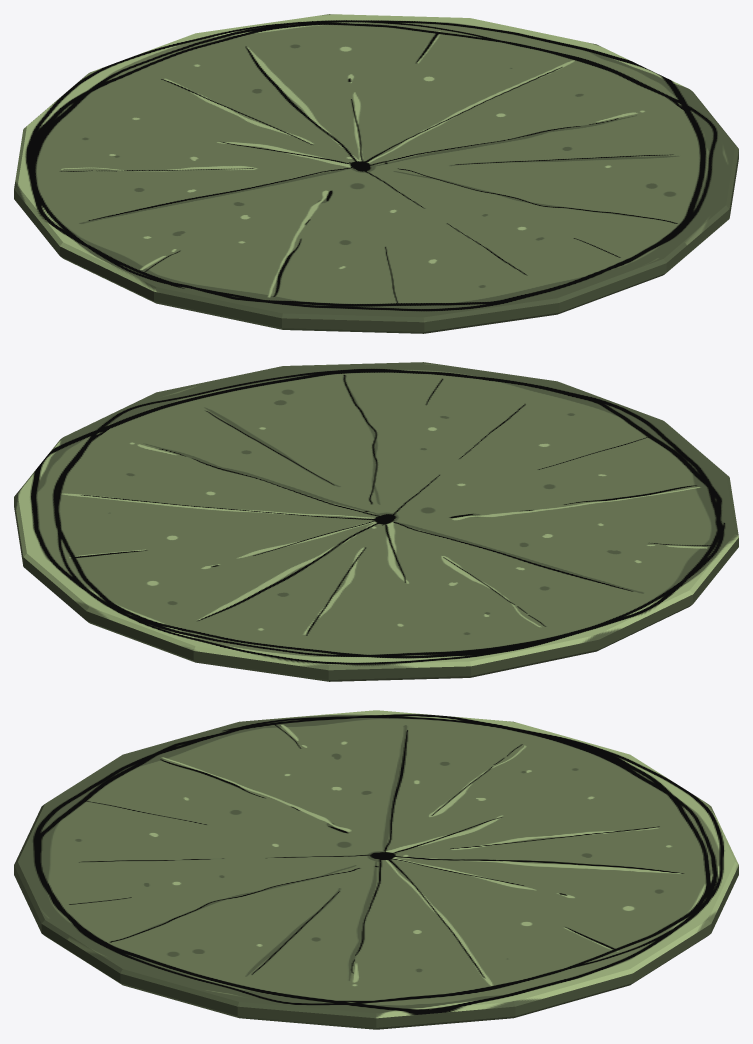
The model's file is GreenLilyPads-mockup.fbx.
3 views of the same model, one above another, from view 1: azimuth 30°, elevation 25°; view 2: azimuth 150°, elevation 25°; view 3: azimuth 270°, elevation 25° (orthographic).
Visible parts, largest first — view 1: Cylinder; view 2: Cylinder; view 3: Cylinder.
Boxes of the visible parts, left/top/right/bottom form: Cylinder: left=14, top=14, right=738, bottom=333; Cylinder: left=14, top=362, right=738, bottom=681; Cylinder: left=14, top=710, right=738, bottom=1029.
Bounding box in the file's own units: 4000 × 99.46 × 4000.
